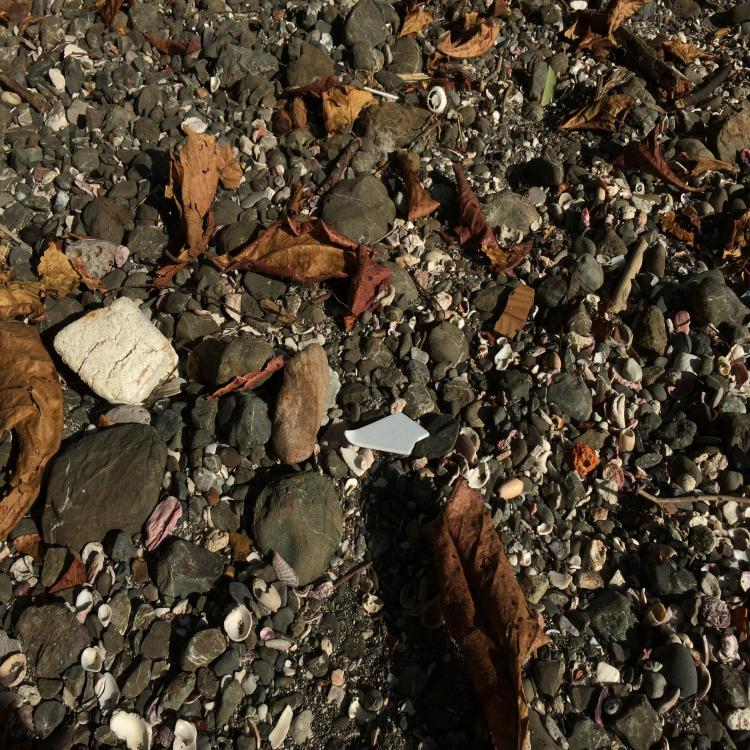Other plastic wrapper: (344, 412, 430, 455), (364, 86, 404, 102), (426, 86, 447, 114)
Styrofoam piece: (54, 296, 180, 408)
